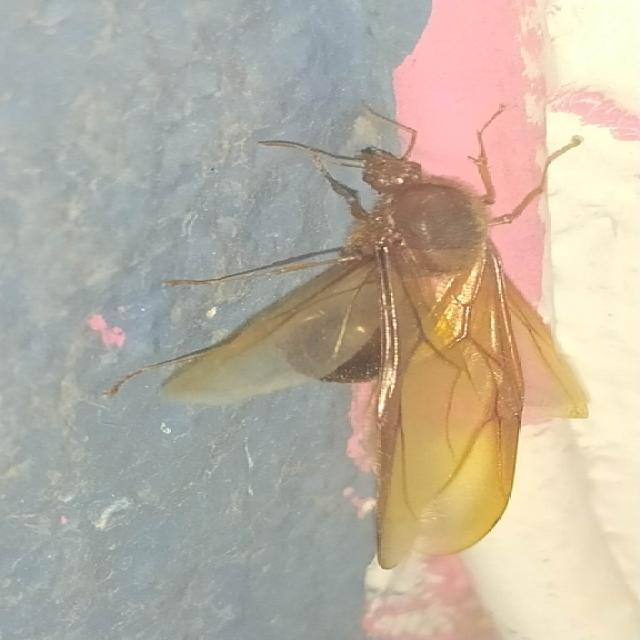Alive-Male-Alate: (108, 99, 590, 570)
